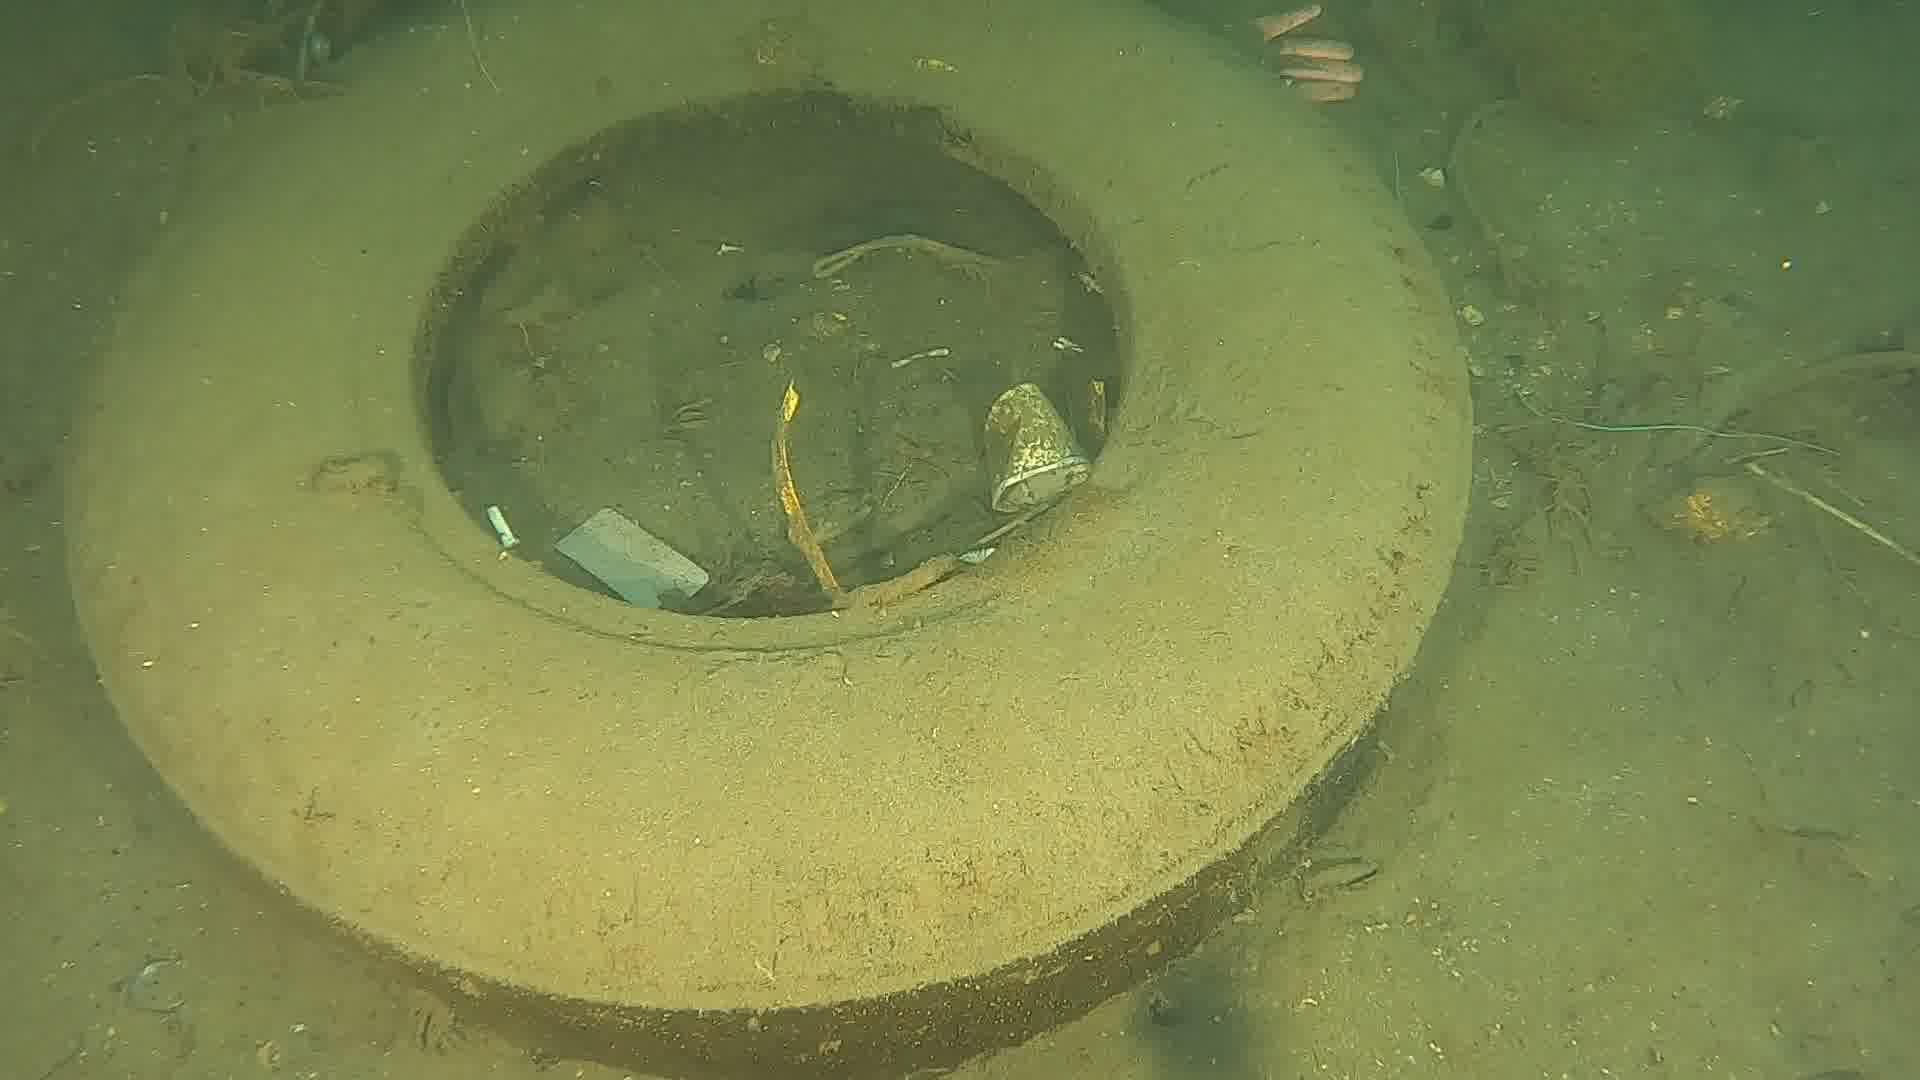tire: (49, 0, 1474, 1065)
